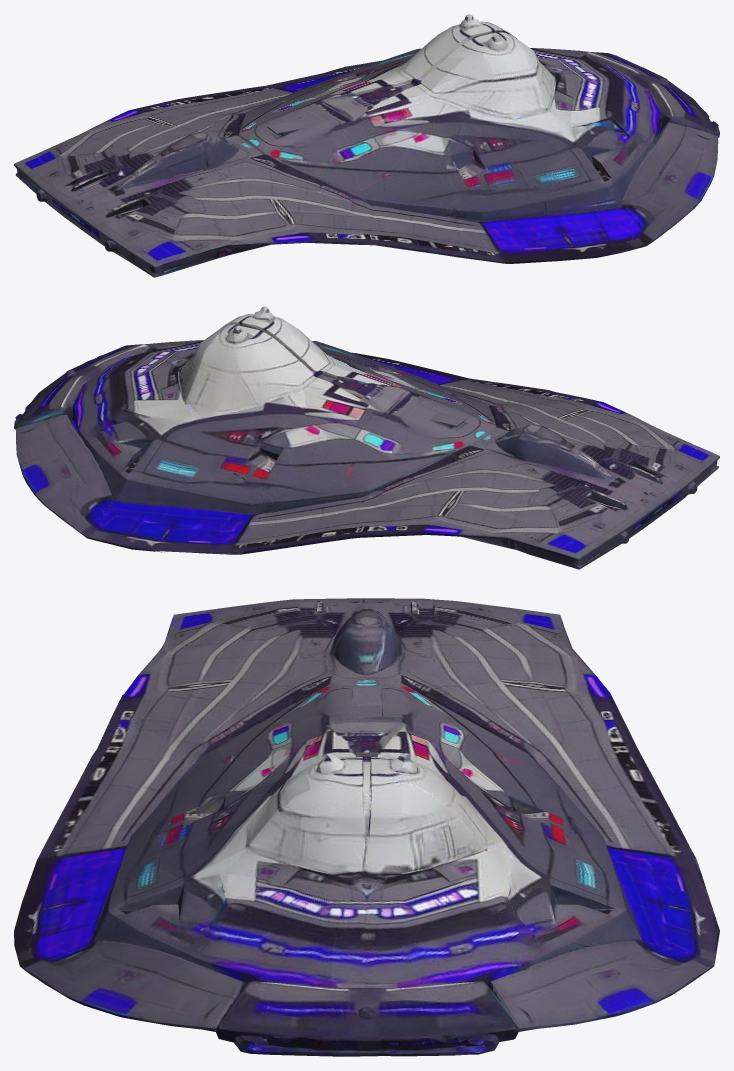
Rendered from nation-f-cruiser.glb.
3 views of the same model, one above another, from view 1: azimuth 30°, elevation 25°; view 2: azimuth 150°, elevation 25°; view 3: azimuth 270°, elevation 25° (orthographic). The views are drawn at different scales.
Bounding box in the file's own units: 1.9 × 0.469 × 1.39.
1 material, 1 textured.
